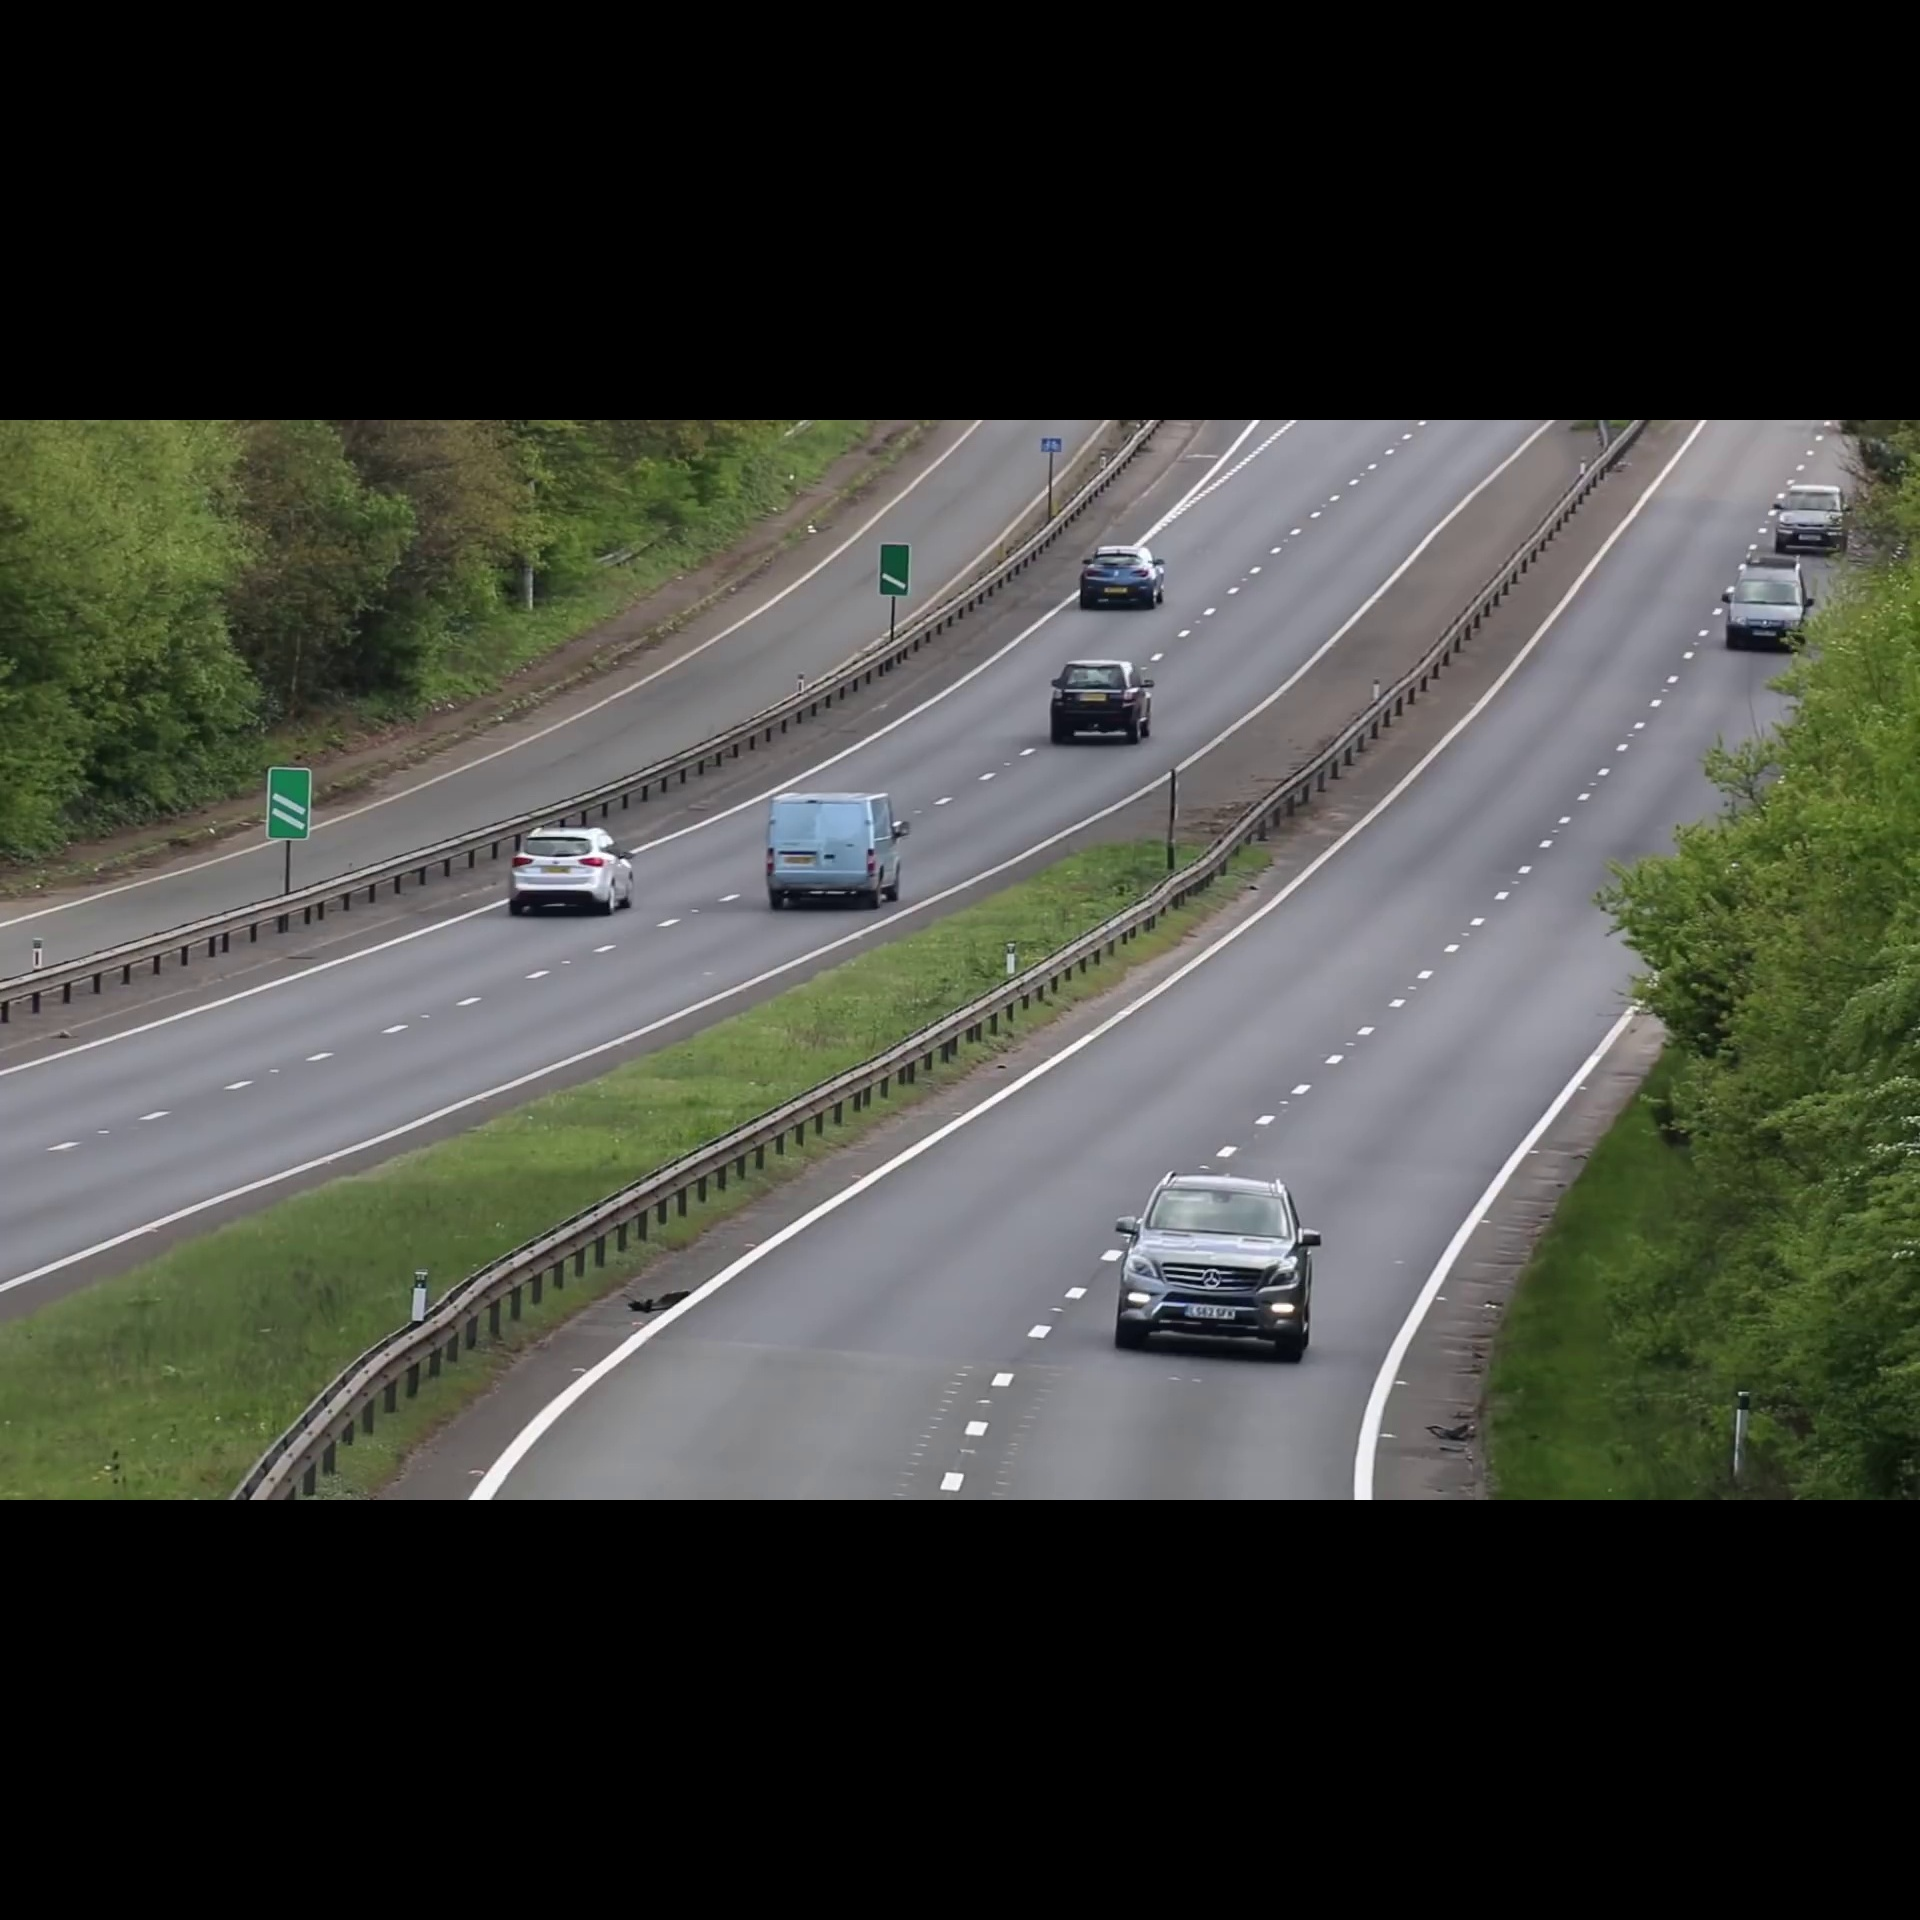vehicle: (1102, 1160, 1322, 1361), (761, 782, 914, 909), (505, 819, 642, 923), (1039, 659, 1159, 754), (1720, 550, 1806, 656), (1076, 542, 1167, 617), (1769, 478, 1850, 561)
